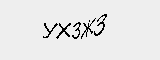З: (84, 21, 98, 37)
Н: (64, 17, 85, 38)
Т: (36, 13, 61, 35)
Ф: (14, 13, 36, 35)
Ш: (114, 17, 143, 37)
Ң: (97, 18, 115, 41)
